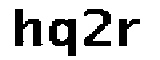2: (82, 6, 114, 51)
h: (6, 5, 45, 50)
q: (47, 17, 80, 60)
r: (116, 16, 143, 50)
